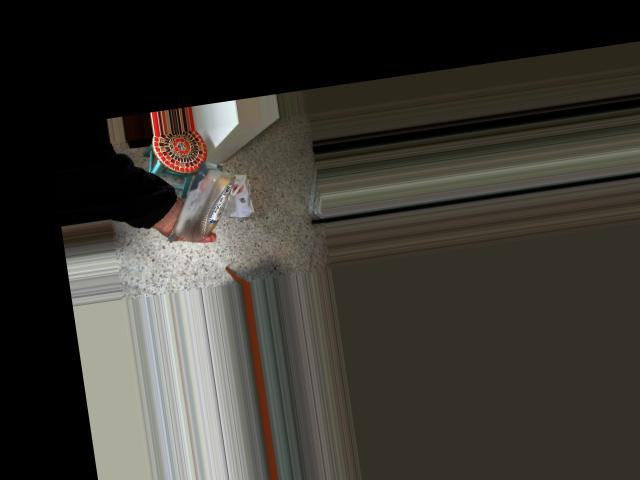cheese: (148, 132, 266, 254)
